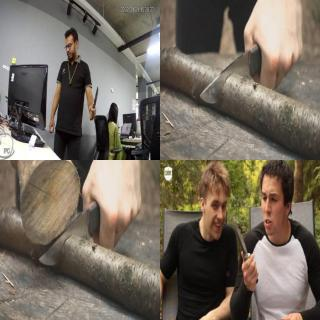knife: (35, 189, 111, 271), (196, 32, 271, 108), (230, 214, 258, 274), (92, 87, 100, 109)
